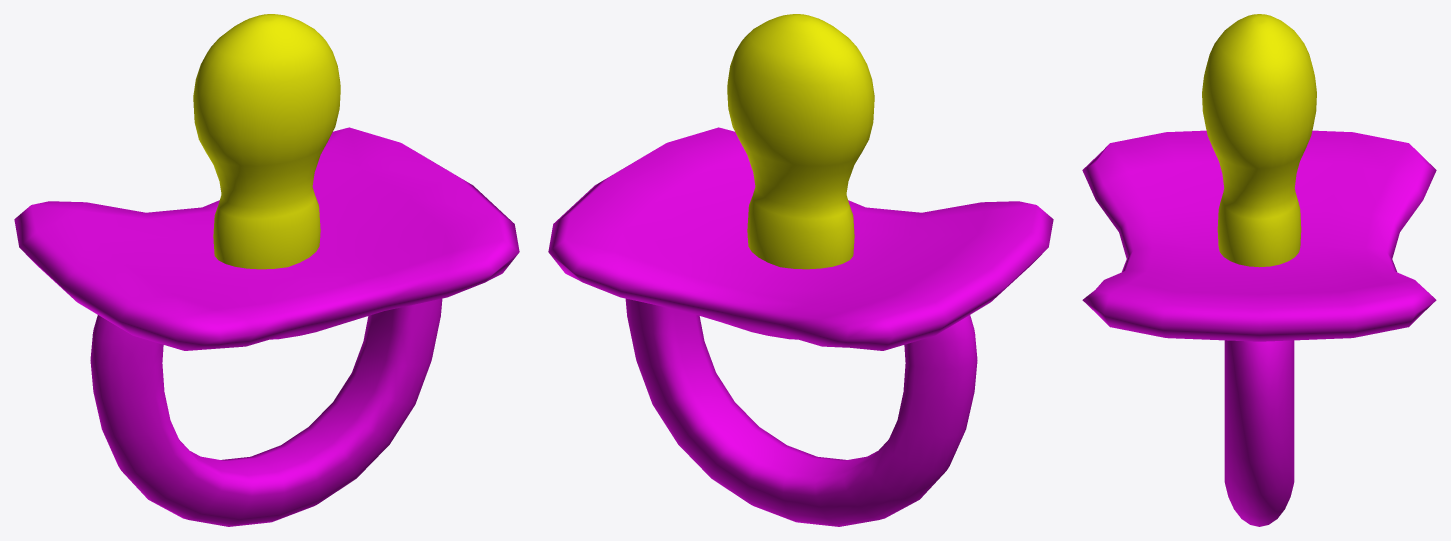
Rendered from Proto_Binky_01.fbx.
3 views of the same model, side by side, from view 1: azimuth 30°, elevation 25°; view 2: azimuth 150°, elevation 25°; view 3: azimuth 270°, elevation 25° (orthographic). The views are drawn at different scales.
Visible parts, largest first — view 1: Proto_binky_01; view 2: Proto_binky_01; view 3: Proto_binky_01.
Boxes of the visible parts, x1,y1,x2,y2 form: Proto_binky_01: (14,14,519,526); Proto_binky_01: (548,14,1053,526); Proto_binky_01: (1082,14,1436,526).
Size of the model in its own units: 10.38 by 12.08 by 7.93.
